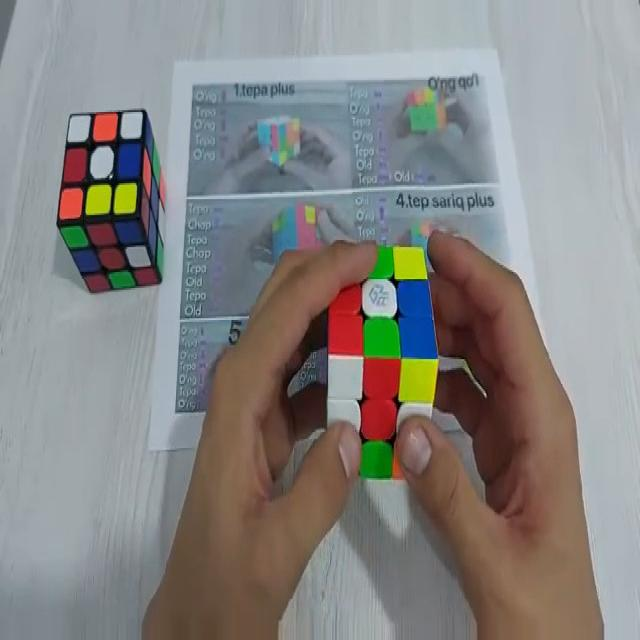Rub: (321, 243, 442, 482), (56, 110, 166, 299)
